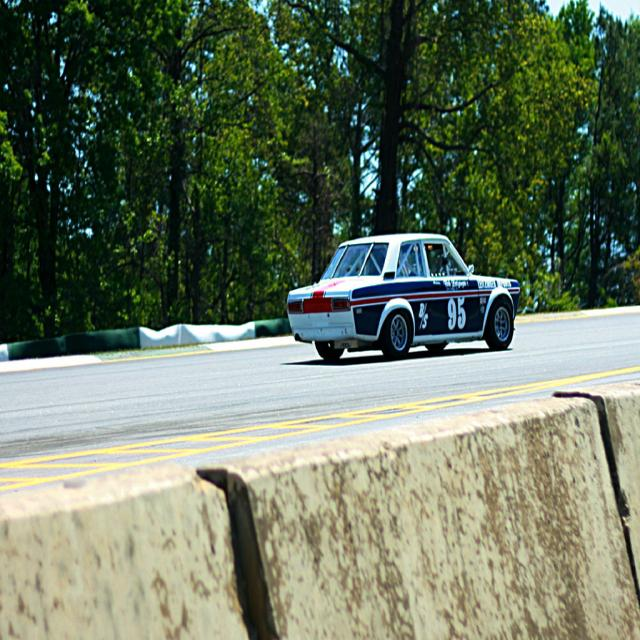car: (287, 234, 521, 361)
